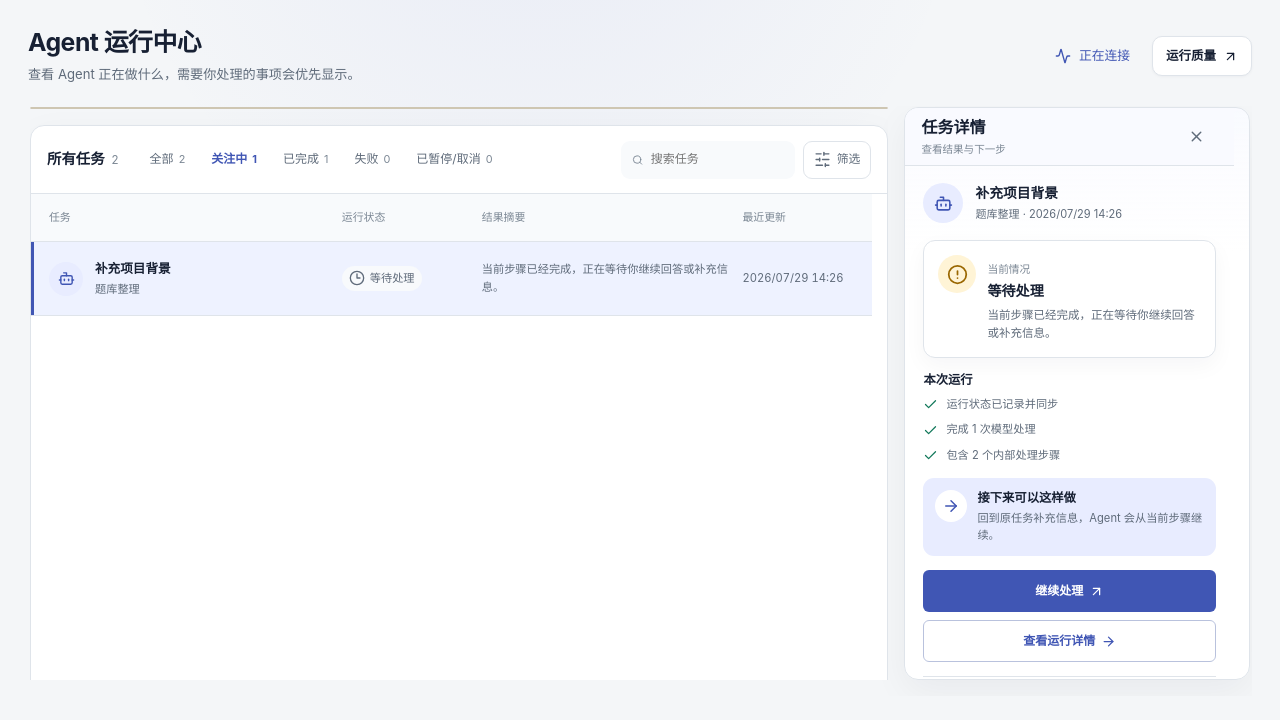
Scenario: AgentRunCenterPage › shows one current task per session while keeping historical executions out of task counts
Expected: the button "题库整理任务" is not shown
Click the button "全部 2" at (167, 160), box left=137, top=136, right=198, bottom=183
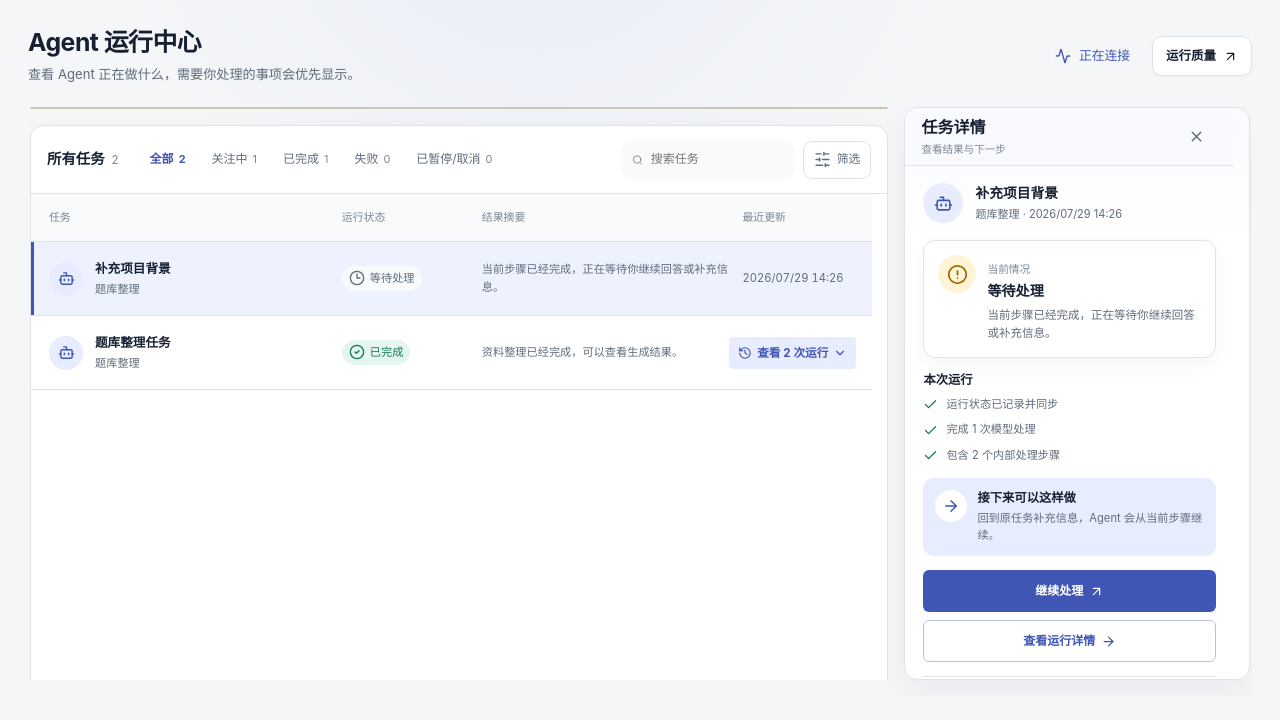
Click the button "题库整理任务 题库整理 已完成 资料整理已经完成，可以查看生成结果。 2026/07/29 08:51" at (66, 352), box left=31, top=316, right=872, bottom=390
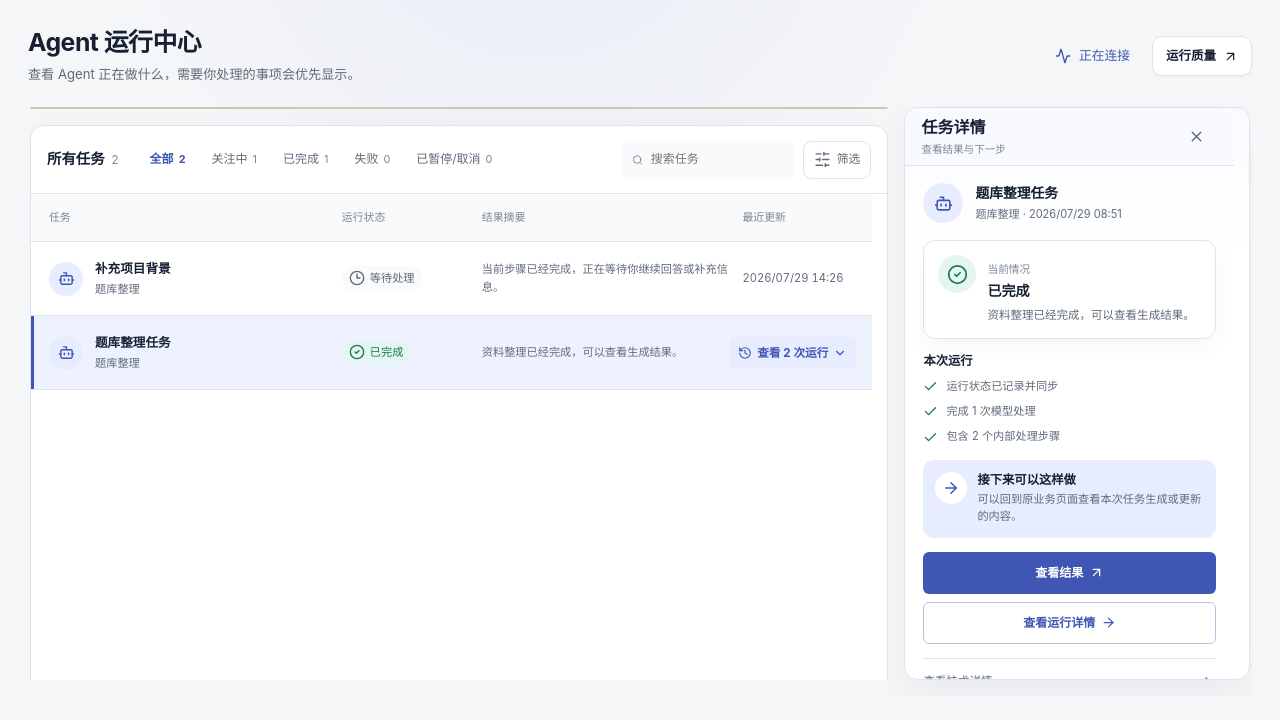
Expected: the button "已完成 1" is shown, left=270, top=136, right=341, bottom=183
Expected: the button "题库整理任务 题库整理 已完成 资料整理已经完成，可以查看生成结果。 2026/07/29 08:51" is shown, left=31, top=316, right=872, bottom=390
Expected: the number of buttons "题库整理任务 题库整理 已完成 资料整理已经完成，可以查看生成结果。 2026/07/29 08:51" is 1, left=31, top=316, right=872, bottom=390
Click the button "查看 2 次运行" at (793, 353), box left=729, top=337, right=856, bottom=369
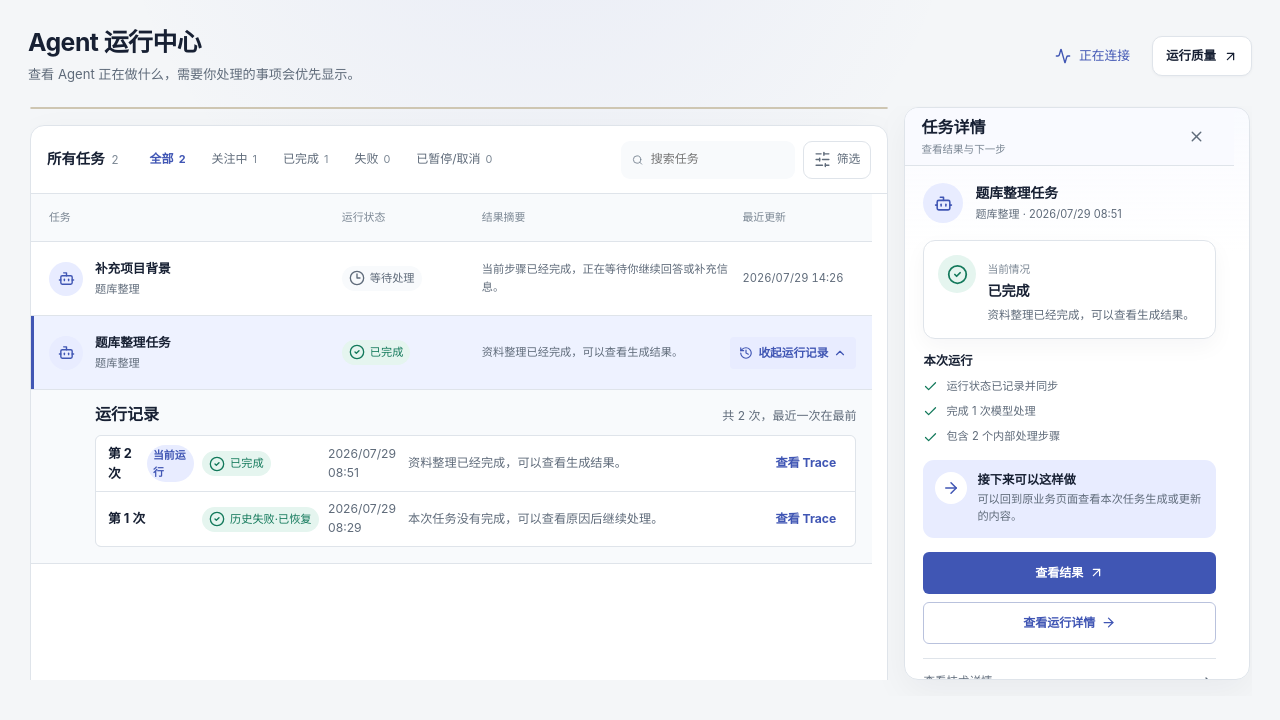
Expected: the text "第 2 次" is shown, left=108, top=444, right=194, bottom=484
Expected: the text "当前运行" is shown, left=147, top=445, right=194, bottom=482
Expected: the text "第 1 次" is shown, left=108, top=511, right=145, bottom=526
